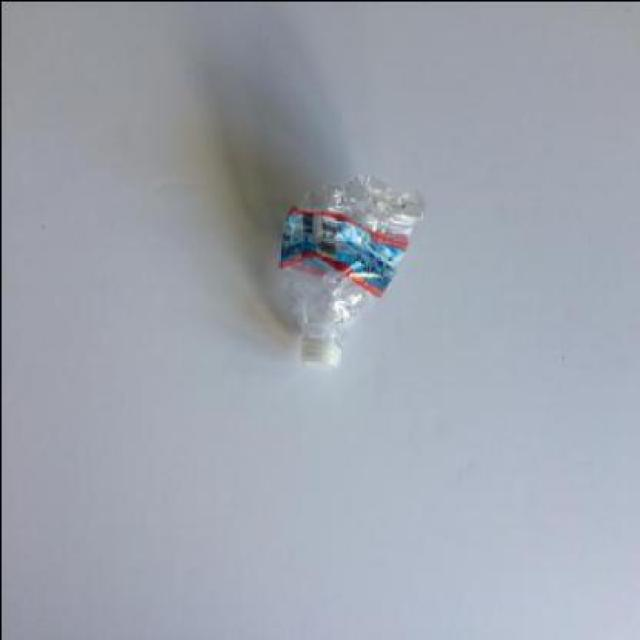PLASTIC: (279, 172, 424, 372), (280, 204, 408, 296), (298, 328, 342, 370)
